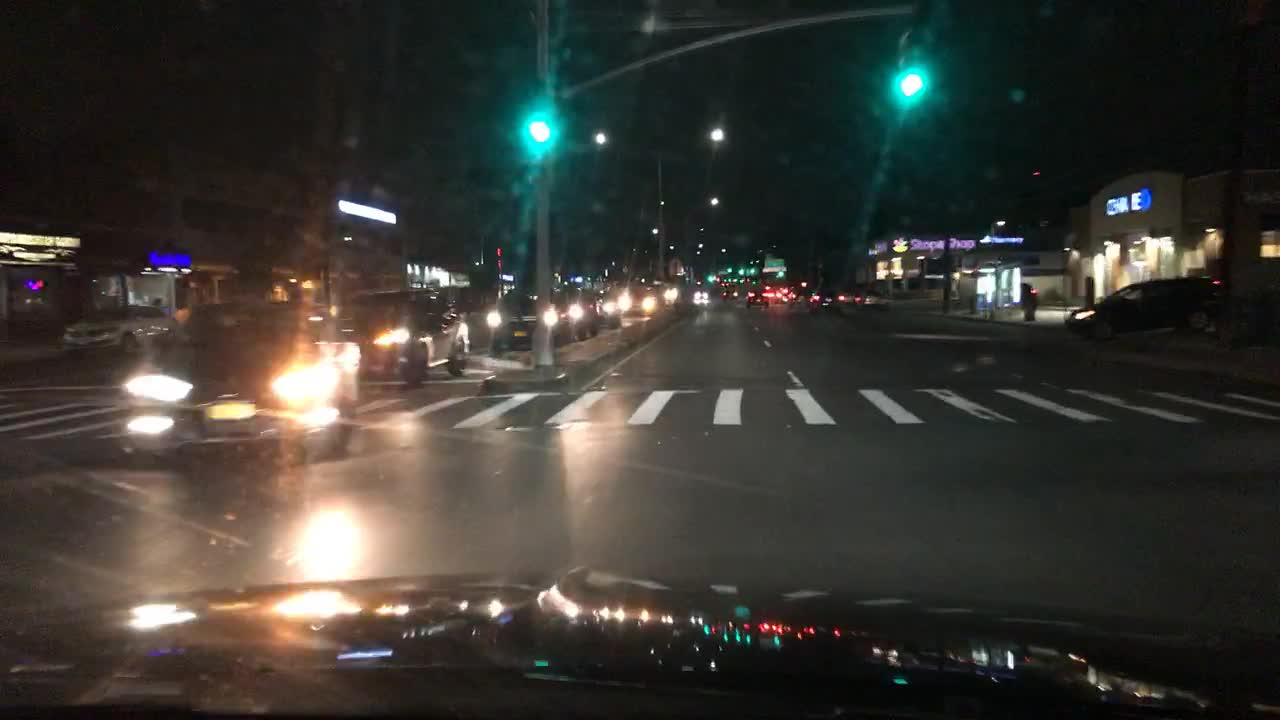car: (117, 299, 362, 461), (316, 286, 471, 385), (1065, 272, 1227, 343), (61, 304, 179, 362), (488, 286, 570, 356), (438, 283, 499, 344), (579, 290, 623, 335), (550, 286, 587, 338), (606, 283, 657, 311), (745, 286, 772, 309), (655, 278, 681, 299), (688, 286, 711, 303), (809, 291, 834, 306), (833, 290, 860, 303), (861, 288, 880, 306), (722, 281, 739, 301), (784, 290, 801, 303), (763, 285, 774, 301)
person: (1014, 280, 1039, 322), (147, 292, 164, 308)
traffic light: (897, 37, 926, 106), (523, 106, 551, 153), (745, 264, 757, 277), (703, 271, 713, 281)
